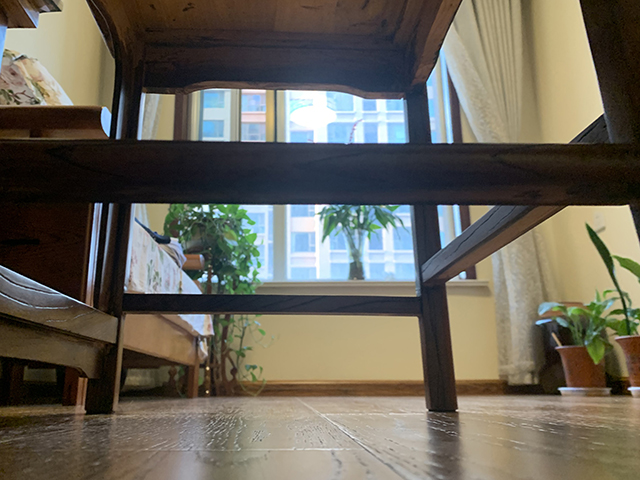curtain: (440, 1, 556, 387)
sofa: (1, 47, 214, 407)
